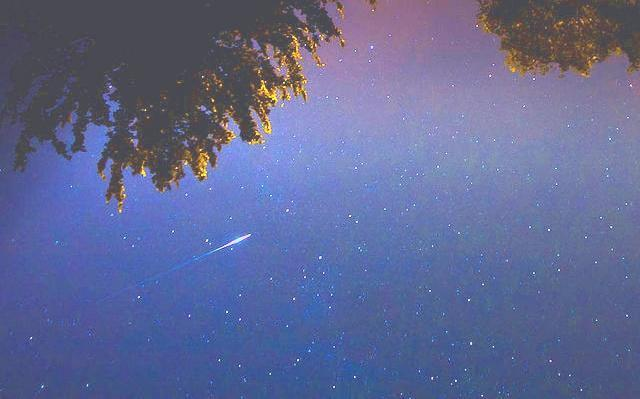meteorite: (123, 228, 267, 301)
